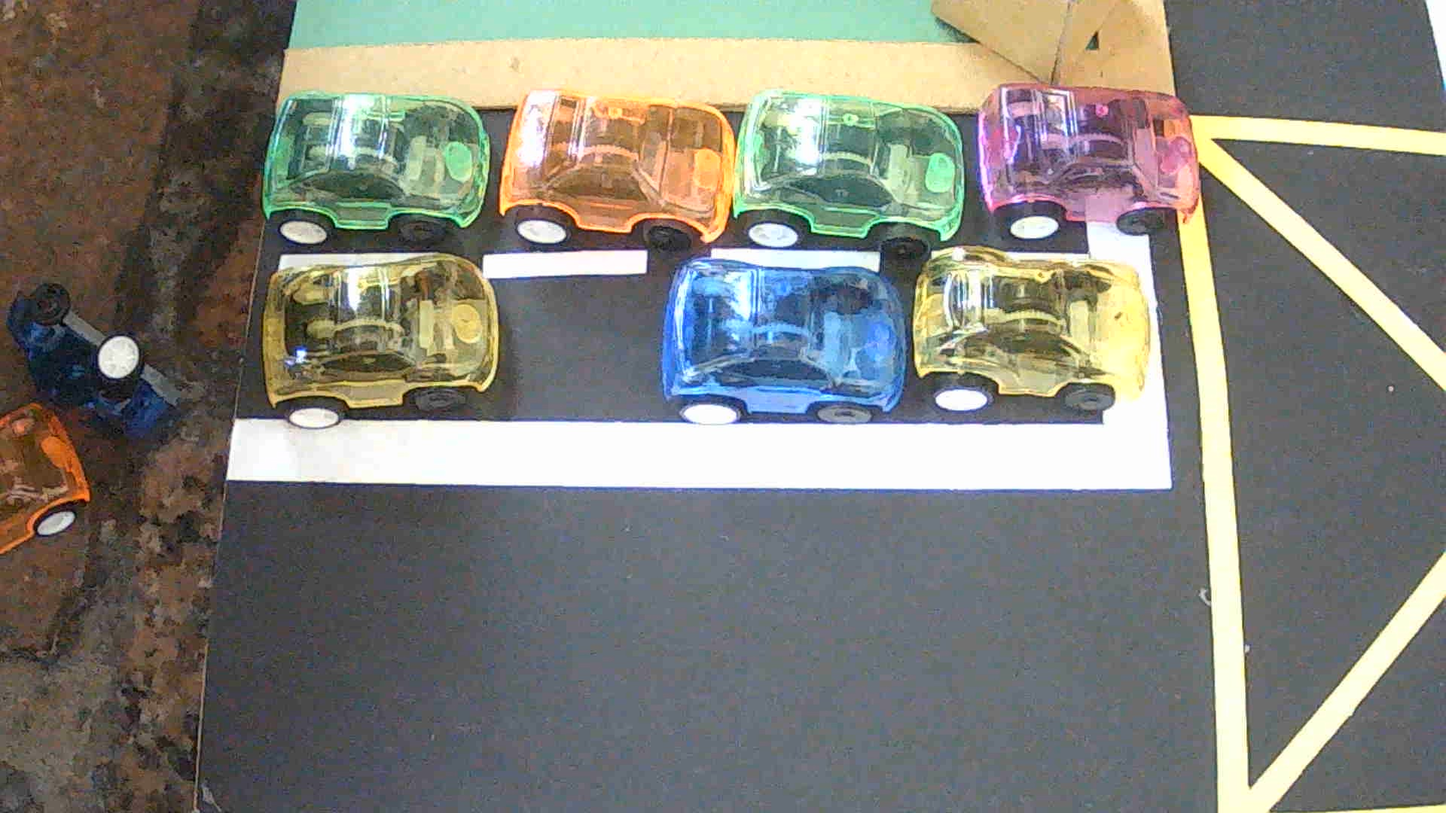Mobil biru: (660, 257, 908, 425)
Mobil hijau: (732, 89, 965, 260), (261, 92, 490, 245)
Mobil kuning: (263, 253, 499, 428), (912, 246, 1150, 413)
Mobil orange: (499, 90, 735, 252)
Mobil ungu: (977, 84, 1198, 239)
